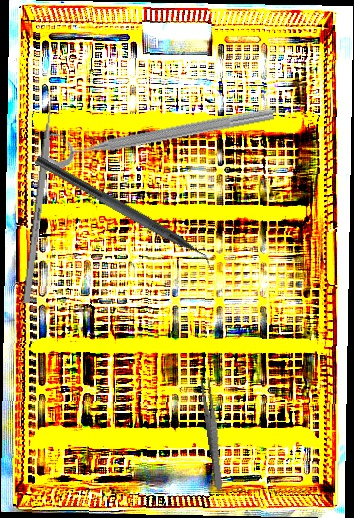Chopper: (27, 154, 223, 279)
Dressing Forceps: (199, 376, 226, 491)
Fixation Ring: (40, 88, 276, 171)
Pusher: (22, 80, 58, 304)
